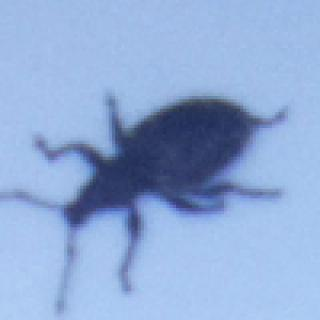bvw: (0, 86, 292, 319)
